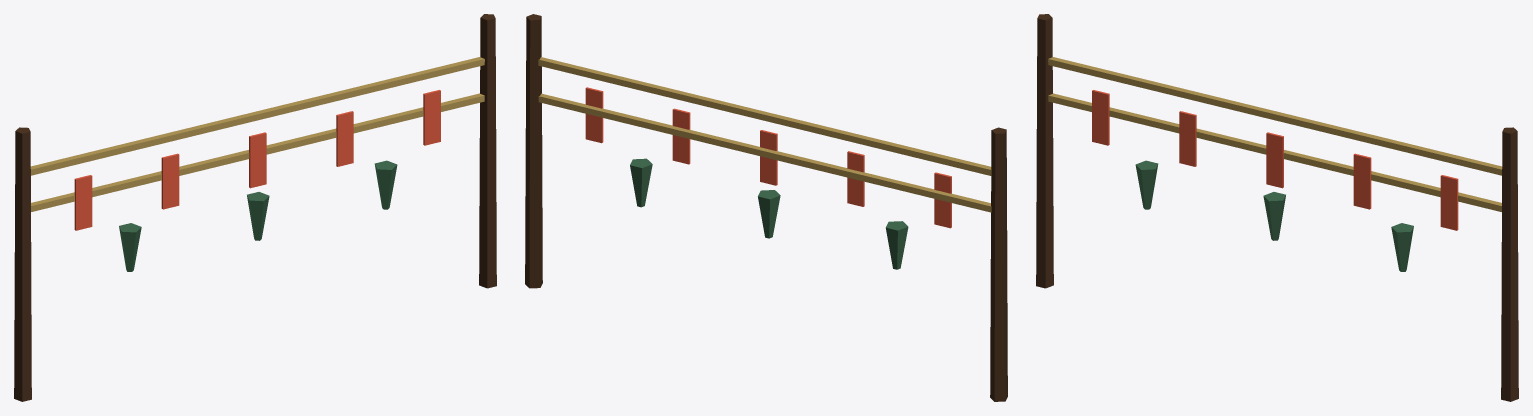
File: prop_plague_rope.glb
3 renders of one model, left to right at view 1: azimuth 30°, elevation 25°; view 2: azimuth 150°, elevation 25°; view 3: azimuth 330°, elevation 25°, orthographic.
Visible parts, largest first — view 1: prop_plague_rope; view 2: prop_plague_rope; view 3: prop_plague_rope.
Boxes of the visible parts, x1=… form: prop_plague_rope: x1=14, y1=14, x2=496, y2=401; prop_plague_rope: x1=525, y1=14, x2=1007, y2=401; prop_plague_rope: x1=1036, y1=14, x2=1518, y2=401.
Bounding box in the file's own units: 4.13 × 2.2 × 0.19.
